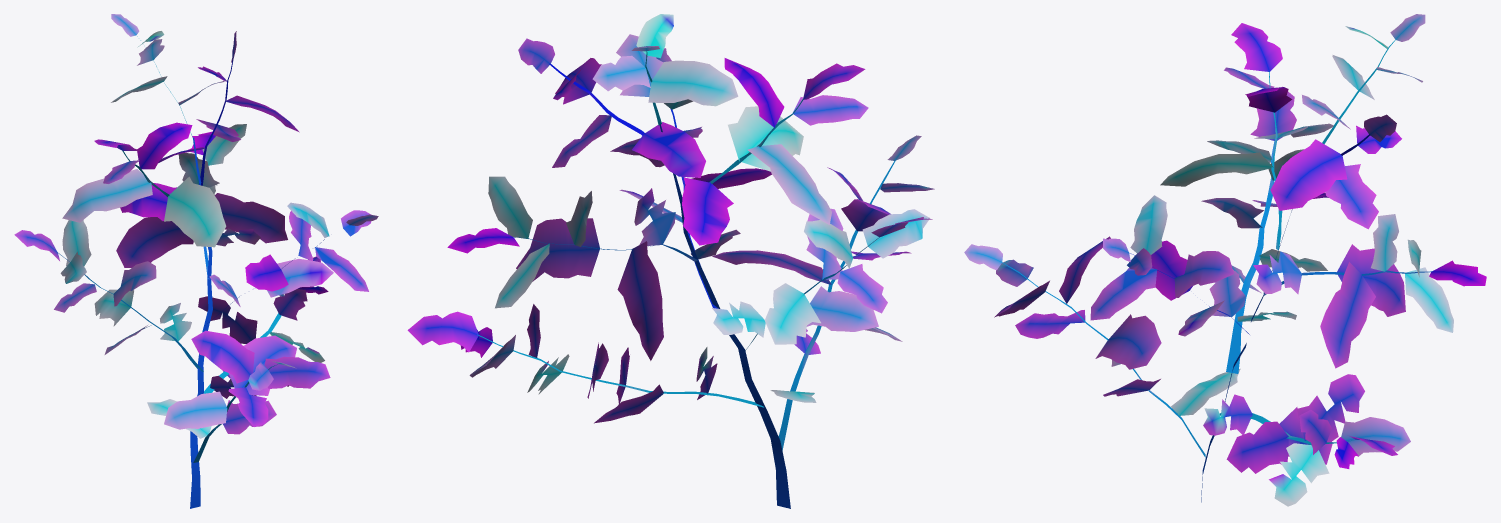
The model's file is Black_Locust_wdvhberja_Mid_wdvhberja_VarH_LOD2.fbx.
The picture shows the model from 3 angles, left to right: view 1: azimuth 30°, elevation 25°; view 2: azimuth 150°, elevation 25°; view 3: azimuth 270°, elevation 25°; orthographic projection. The views are drawn at different scales.
Visible parts, largest first — view 1: _kts4_VarH_LOD3; view 2: _kts4_VarH_LOD3; view 3: _kts4_VarH_LOD3.
Boxes of the visible parts, left/top/right/bottom form: _kts4_VarH_LOD3: left=14, top=14, right=378, bottom=508; _kts4_VarH_LOD3: left=407, top=14, right=934, bottom=508; _kts4_VarH_LOD3: left=964, top=14, right=1486, bottom=506.
Bounding box in the file's own units: 91.73 × 104 × 98.7.
